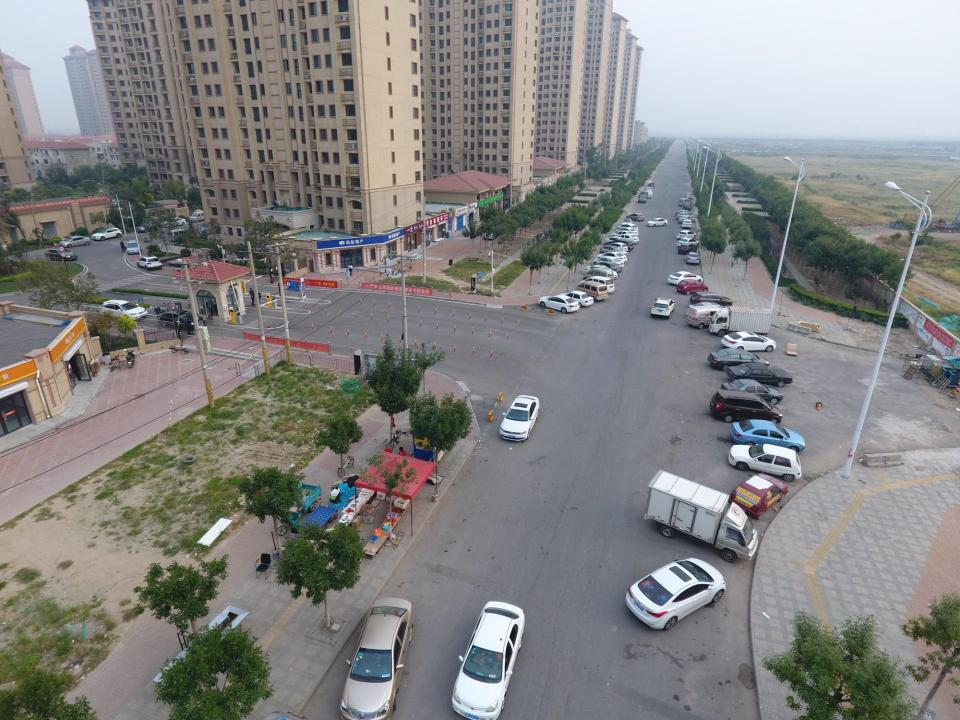car: (339, 596, 415, 720), (450, 601, 525, 719), (624, 557, 726, 631), (728, 443, 802, 482), (728, 472, 788, 520), (730, 419, 805, 454), (498, 395, 540, 442), (720, 378, 784, 407), (726, 362, 794, 389), (707, 348, 769, 372), (720, 330, 776, 354), (98, 298, 148, 322), (156, 309, 206, 331), (538, 294, 580, 313), (690, 291, 733, 309), (687, 302, 734, 317), (556, 290, 594, 307), (584, 264, 618, 282), (650, 297, 676, 319), (676, 279, 709, 296), (666, 270, 704, 284), (590, 261, 622, 276), (591, 256, 625, 270), (45, 247, 78, 261), (58, 235, 92, 248), (596, 250, 627, 264), (91, 228, 122, 242), (603, 238, 634, 251), (137, 254, 162, 270), (134, 219, 160, 234), (166, 228, 193, 242), (598, 245, 628, 257), (160, 216, 186, 228), (602, 242, 629, 253), (676, 237, 700, 249), (613, 234, 639, 245), (602, 236, 628, 246), (125, 238, 141, 254), (646, 217, 668, 227), (614, 227, 638, 236), (676, 230, 696, 240), (616, 223, 638, 232), (686, 251, 700, 265), (678, 243, 696, 253), (626, 212, 644, 222), (675, 212, 696, 220), (611, 230, 635, 237), (678, 214, 696, 223), (675, 209, 693, 217), (682, 218, 692, 228), (638, 195, 648, 204), (622, 218, 632, 225), (683, 202, 691, 210), (685, 193, 692, 199)
truck: (644, 469, 758, 563), (709, 306, 772, 336)
van: (710, 389, 782, 425), (686, 306, 729, 329), (574, 280, 609, 301), (579, 276, 615, 296), (582, 268, 614, 284), (188, 210, 207, 223), (677, 197, 693, 207), (638, 190, 653, 199)
